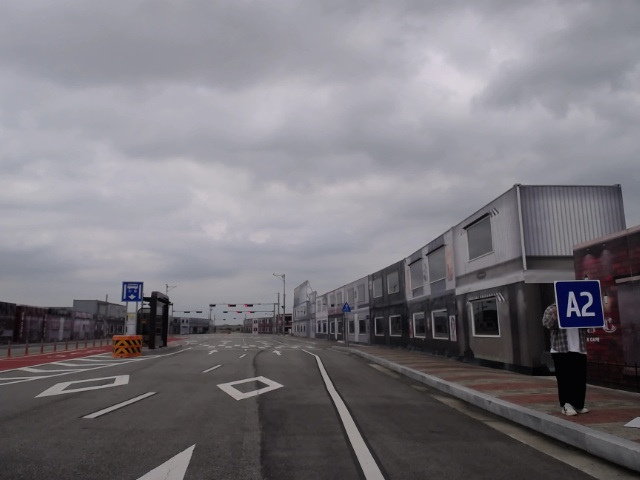delivery_a2: (554, 280, 605, 329)
